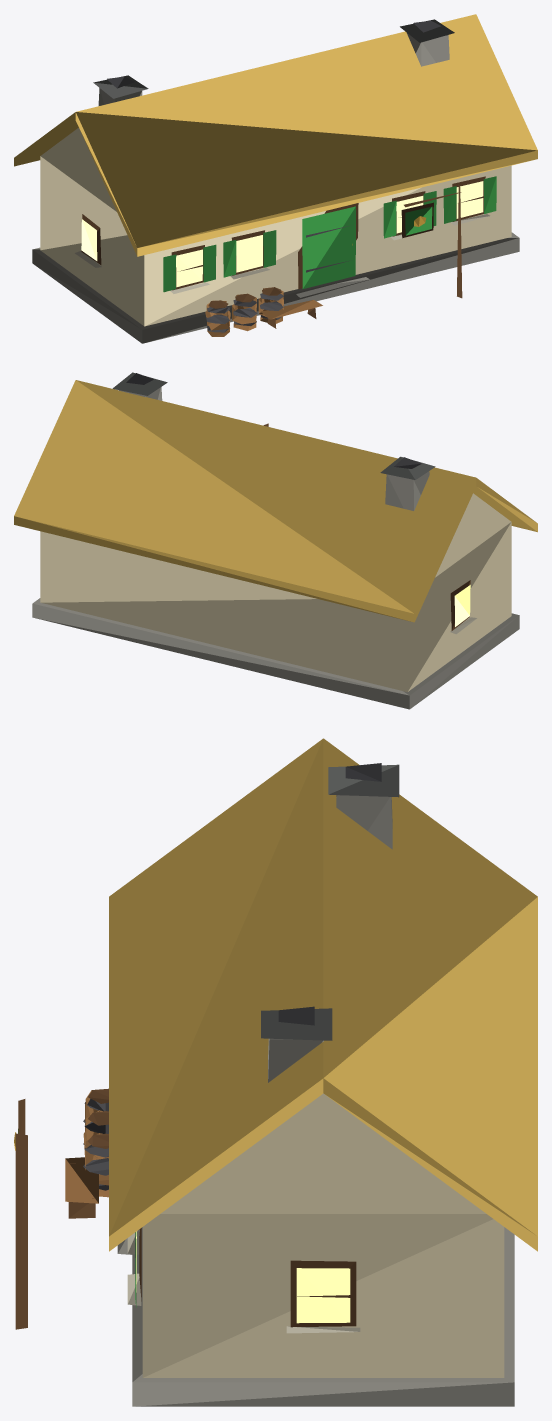
Rendered from inn_green_dragon_lod1.glb.
The picture shows the model from 3 angles, top to bottom: view 1: azimuth 30°, elevation 25°; view 2: azimuth 150°, elevation 25°; view 3: azimuth 270°, elevation 25°; orthographic projection. The views are drawn at different scales.
Visible parts, largest first — view 1: inn_green_dragon_lod1; view 2: inn_green_dragon_lod1; view 3: inn_green_dragon_lod1.
Part boxes in pixels (x1=…): inn_green_dragon_lod1: x1=14, y1=14, x2=537, y2=343; inn_green_dragon_lod1: x1=14, y1=372, x2=537, y2=709; inn_green_dragon_lod1: x1=14, y1=738, x2=537, y2=1406.
Bounding box in the file's own units: 12 × 5.83 × 7.82.
